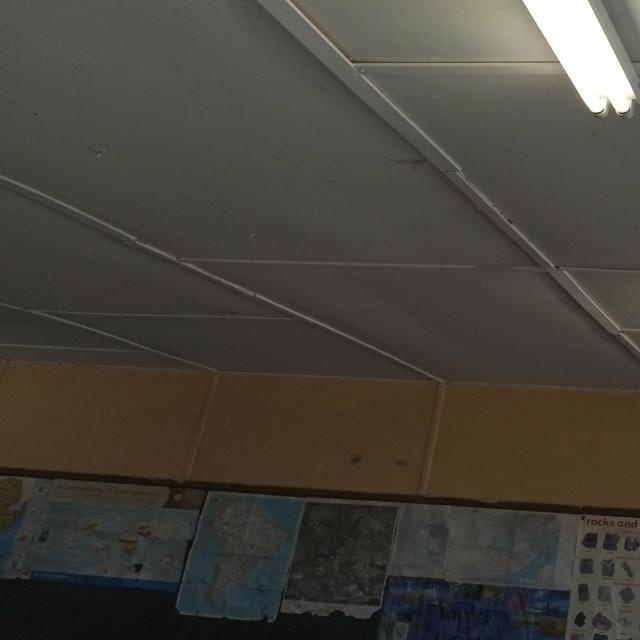fluorescent tube: (209, 0, 640, 131)
